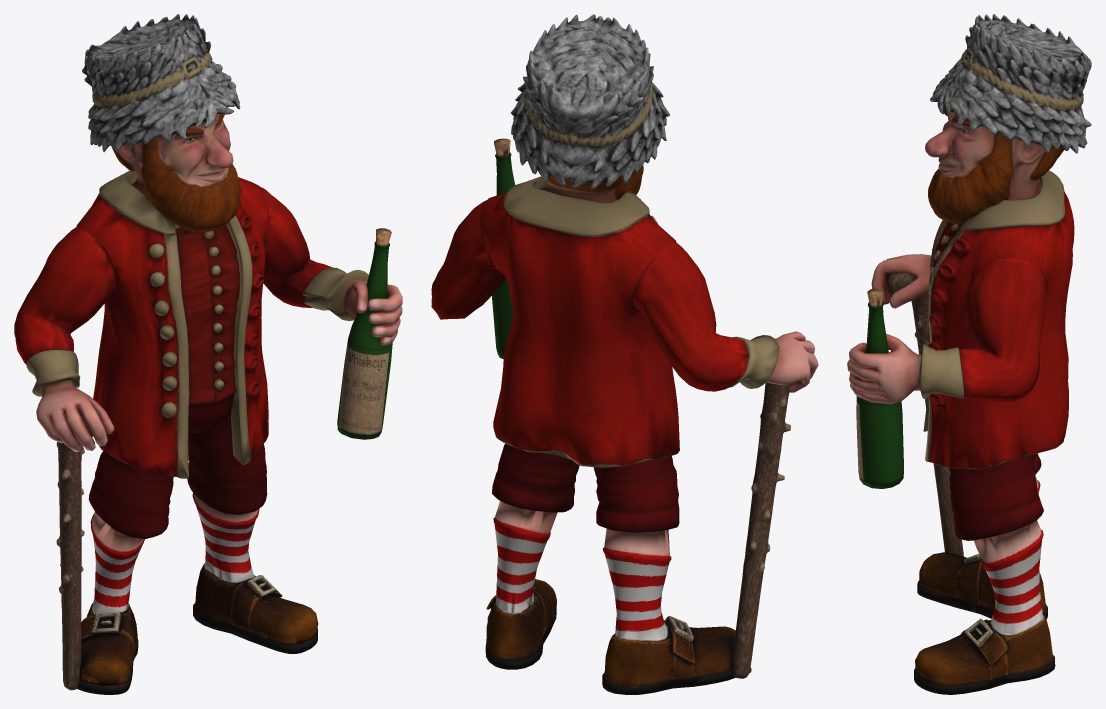
Rendered from MZ4250 - Clurichaun.glb.
3 renders of one model, left to right at view 1: azimuth 30°, elevation 25°; view 2: azimuth 150°, elevation 25°; view 3: azimuth 270°, elevation 25°, orthographic. The views are drawn at different scales.
Visible parts, largest first — view 1: Clurichaun.001; view 2: Clurichaun.001; view 3: Clurichaun.001.
Boxes of the visible parts, x1,y1,x2,y2 form: Clurichaun.001: (14, 14, 402, 694); Clurichaun.001: (431, 14, 818, 694); Clurichaun.001: (847, 14, 1091, 694).
Size of the model in its own units: 102 by 177 by 63.69.
Materials: 1 (1 with a texture image).
